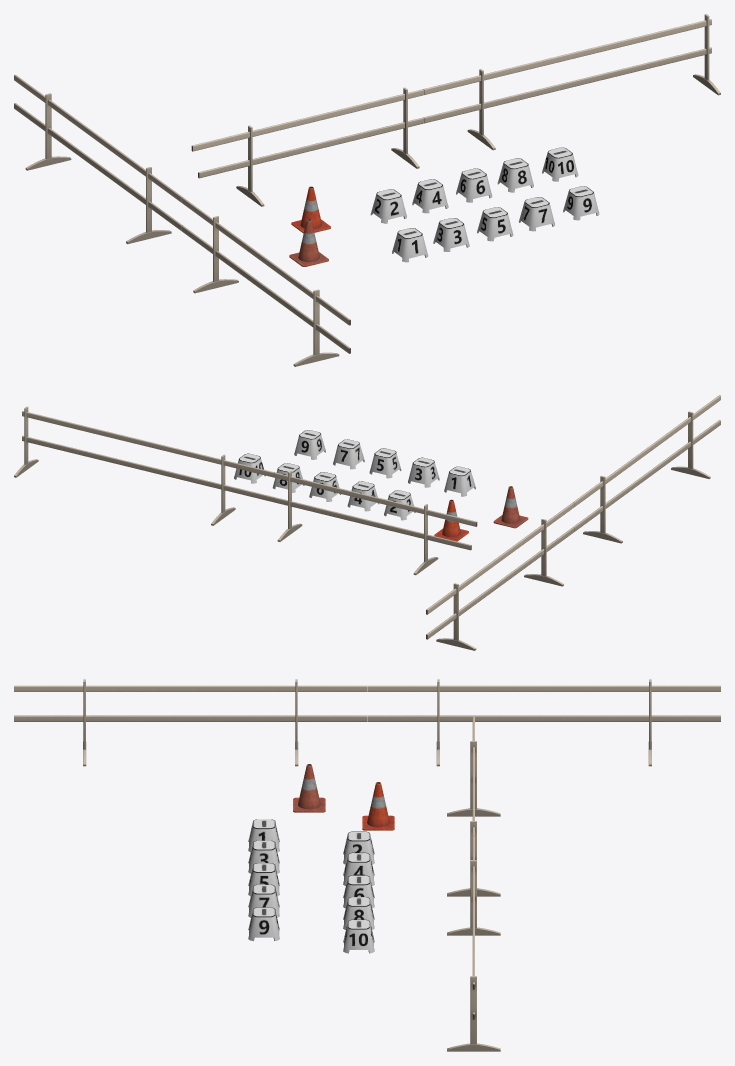
The model's file is horse_riding_obstacles_box_1_to_10_wooden_fence.glb.
The picture shows the model from 3 angles, top to bottom: view 1: azimuth 30°, elevation 25°; view 2: azimuth 150°, elevation 25°; view 3: azimuth 270°, elevation 25°; orthographic projection. The views are drawn at different scales.
Visible parts, largest first — view 1: Fence_1, Fence_2, No_9_Box, No_5_Box, No_4_Box, No_6_Box, No_2_Box, No_8_Box, No_3_Box, No_1_Box, No_10_Box, No_7_Box (+2 smaller); view 2: Fence_1, Fence_2, No_5_Box, No_3_Box, No_1_Box, No_7_Box, No_9_Box, Cone_obstacle_B2, Cone_obstacle_A1, No_4_Box, No_2_Box, No_10_Box (+2 smaller); view 3: Fence_2, Fence_1, Cone_obstacle_B2, Cone_obstacle_A1, No_9_Box, No_10_Box, No_7_Box, No_4_Box, No_3_Box, No_8_Box, No_5_Box, No_1_Box (+2 smaller).
Part boxes in pixels (x1,y1,x2,y2): Fence_1: [191, 14, 720, 206]; Fence_2: [14, 74, 350, 366]; No_9_Box: [563, 186, 599, 220]; No_5_Box: [477, 207, 513, 241]; No_4_Box: [412, 179, 448, 213]; No_6_Box: [456, 168, 492, 202]; No_2_Box: [370, 189, 406, 223]; No_8_Box: [497, 158, 533, 192]; No_3_Box: [433, 218, 469, 251]; No_1_Box: [392, 228, 428, 262]; No_10_Box: [542, 147, 578, 181]; No_7_Box: [518, 197, 555, 231]; Fence_1: [14, 406, 477, 575]; Fence_2: [426, 395, 720, 650]; No_5_Box: [369, 448, 401, 478]; No_3_Box: [408, 457, 439, 487]; No_1_Box: [444, 466, 475, 496]; No_7_Box: [333, 439, 364, 469]; No_9_Box: [294, 430, 325, 459]; Cone_obstacle_B2: [493, 486, 528, 528]; Cone_obstacle_A1: [434, 499, 468, 541]; No_4_Box: [347, 481, 379, 511]; No_2_Box: [384, 490, 415, 520]; No_10_Box: [234, 453, 265, 483]; Fence_2: [14, 679, 720, 766]; Fence_1: [447, 716, 500, 1051]; Cone_obstacle_B2: [293, 764, 325, 812]; Cone_obstacle_A1: [362, 782, 394, 830]; No_9_Box: [248, 907, 279, 941]; No_10_Box: [343, 919, 374, 953]; No_7_Box: [248, 884, 279, 917]; No_4_Box: [343, 852, 374, 885]; No_3_Box: [248, 840, 279, 873]; No_8_Box: [343, 897, 374, 929]; No_5_Box: [248, 863, 279, 896]; No_1_Box: [248, 819, 279, 852].
Size of the model in its own units: 9.43 by 1.06 by 9.1.
11 materials, 11 textured.
